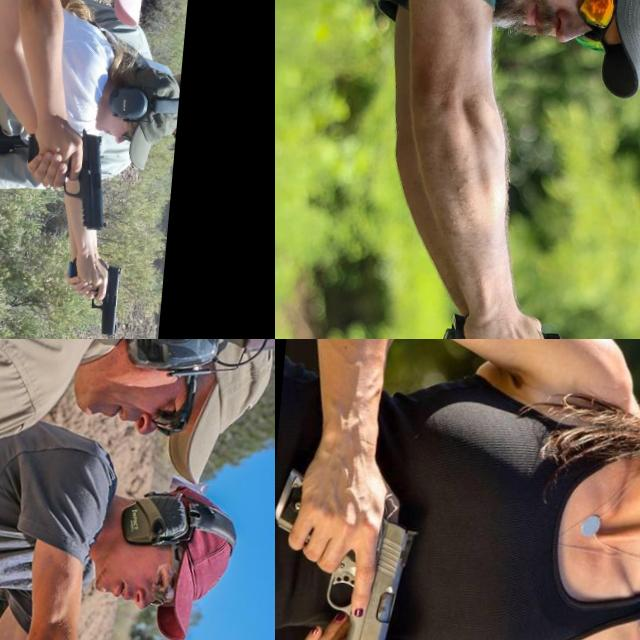handgun: (304, 505, 423, 640), (54, 126, 118, 233), (84, 258, 126, 338)
